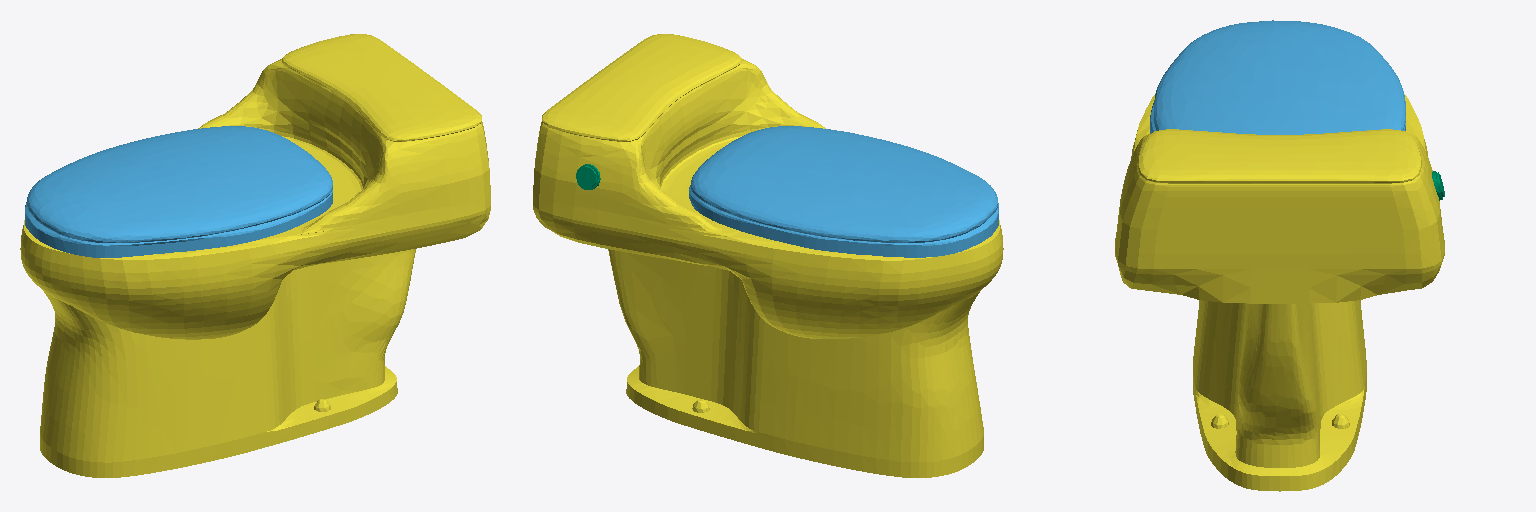
URDF robot description (partnet_34d5ae6e2a4ab7f63321831d2245cf06):
<?xml version="1.0" ?>
<robot name="partnet_34d5ae6e2a4ab7f63321831d2245cf06">
	<link name="base"/>
	<link name="link_0">
		<visual name="lid-2">
			<origin xyz="0.4901681722227229 -0.24106529911222685 0.28979824677592575"/>
			<geometry>
				<mesh filename="textured_objs/original-2.obj"/>
			</geometry>
		</visual>
		<collision>
			<origin xyz="0.4901681722227229 -0.24106529911222685 0.28979824677592575"/>
			<geometry>
				<mesh filename="textured_objs/original-2.obj"/>
			</geometry>
		</collision>
	</link>
	<joint name="joint_0" type="revolute">
		<origin xyz="-0.4901681722227229 0.24106529911222685 -0.28979824677592575"/>
		<axis xyz="-1 0 0"/>
		<child link="link_0"/>
		<parent link="link_2"/>
		<limit lower="-0.0" upper="1.5707963267948966"/>
	</joint>
	<link name="link_1">
		<visual name="button-4">
			<origin xyz="0 -0.3519605 0.5167407457573073"/>
			<geometry>
				<mesh filename="textured_objs/original-6.obj"/>
			</geometry>
		</visual>
		<collision>
			<origin xyz="0 -0.3519605 0.5167407457573073"/>
			<geometry>
				<mesh filename="textured_objs/original-6.obj"/>
			</geometry>
		</collision>
	</link>
	<joint name="joint_1" type="fixed">
		<origin xyz="0 0.3519605 -0.5167407457573073"/>
		<axis xyz="1 0 0"/>
		<child link="link_1"/>
		<parent link="link_2"/>
		<limit lower="-0.01200000000000001" upper="0"/>
	</joint>
	<link name="link_2">
		<visual name="base_body-5">
			<origin xyz="0 0 0"/>
			<geometry>
				<mesh filename="textured_objs/original-4.obj"/>
			</geometry>
		</visual>
		<visual name="base_body-5">
			<origin xyz="0 0 0"/>
			<geometry>
				<mesh filename="textured_objs/original-3.obj"/>
			</geometry>
		</visual>
		<visual name="base_body-5">
			<origin xyz="0 0 0"/>
			<geometry>
				<mesh filename="textured_objs/original-5.obj"/>
			</geometry>
		</visual>
		<visual name="base_body-5">
			<origin xyz="0 0 0"/>
			<geometry>
				<mesh filename="textured_objs/original-1.obj"/>
			</geometry>
		</visual>
		<collision>
			<origin xyz="0 0 0"/>
			<geometry>
				<mesh filename="textured_objs/original-4.obj"/>
			</geometry>
		</collision>
		<collision>
			<origin xyz="0 0 0"/>
			<geometry>
				<mesh filename="textured_objs/original-3.obj"/>
			</geometry>
		</collision>
		<collision>
			<origin xyz="0 0 0"/>
			<geometry>
				<mesh filename="textured_objs/original-5.obj"/>
			</geometry>
		</collision>
		<collision>
			<origin xyz="0 0 0"/>
			<geometry>
				<mesh filename="textured_objs/original-1.obj"/>
			</geometry>
		</collision>
	</link>
	<joint name="joint_2" type="fixed">
		<origin rpy="1.570796326794897 0 -1.570796326794897" xyz="0 0 0"/>
		<child link="link_2"/>
		<parent link="base"/>
	</joint>
</robot>

--- Render facts (derived) ---
3 views of the same robot in one strip: view 1: azimuth 30°, elevation 25°; view 2: azimuth 150°, elevation 25°; view 3: azimuth 270°, elevation 25° (orthographic).
Model partnet_34d5ae6e2a4ab7f63321831d2245cf06 with 4 links and 3 joints (1 revolute, 2 fixed), rooted at base, posed every joint at zero.
Visible links, largest first — view 1: link_2, link_0; view 2: link_2, link_0; view 3: link_2, link_0.
Boxes of the visible links, bbox=[...] form: link_2: bbox=[20, 34, 490, 477]; link_0: bbox=[25, 126, 332, 257]; link_2: bbox=[533, 34, 1003, 477]; link_0: bbox=[689, 126, 998, 257]; link_2: bbox=[1115, 93, 1444, 491]; link_0: bbox=[1150, 20, 1405, 134].
Size in the robot's own frame: 1.64 by 1.04 by 1.18 metres.
6 mesh visuals loaded from 6 distinct referenced files (6 OBJ).
